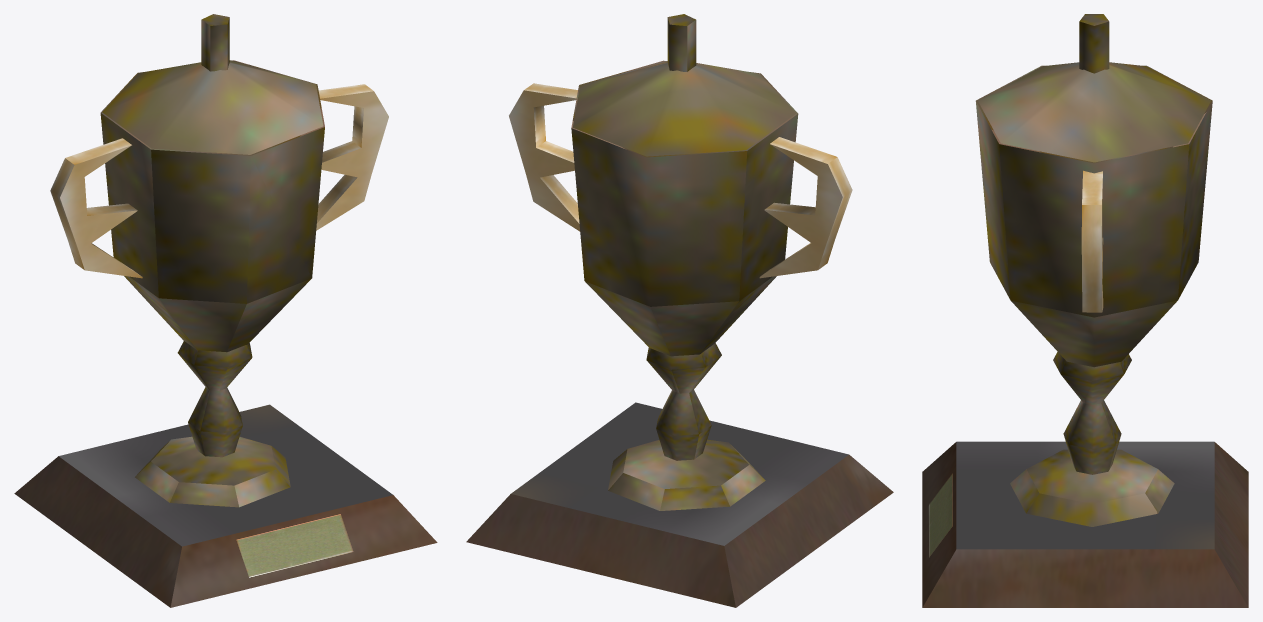
File: trophy.obj
3 views of the same model, side by side, from view 1: azimuth 30°, elevation 25°; view 2: azimuth 150°, elevation 25°; view 3: azimuth 270°, elevation 25° (orthographic). The views are drawn at different scales.
Parts seen in each view (by area): view 1: Box02; view 2: Box02; view 3: Box02.
Boxes of the visible parts, x1,y1,x2,y2 form: Box02: [14, 14, 437, 607]; Box02: [466, 14, 893, 607]; Box02: [922, 14, 1248, 607].
Bounding box in the file's own units: 61.5 × 88.33 × 50.43.
